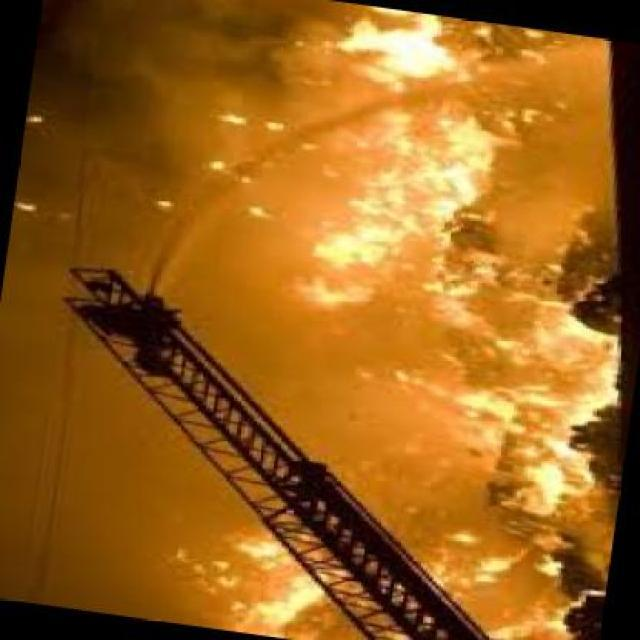Fire: (318, 10, 616, 517), (189, 526, 612, 638)
Smoke: (106, 11, 304, 342), (54, 28, 182, 203)
